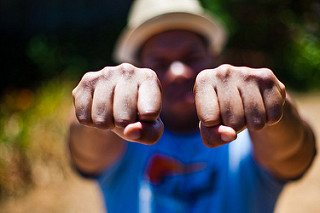fist: (196, 66, 297, 151), (75, 64, 165, 154)
